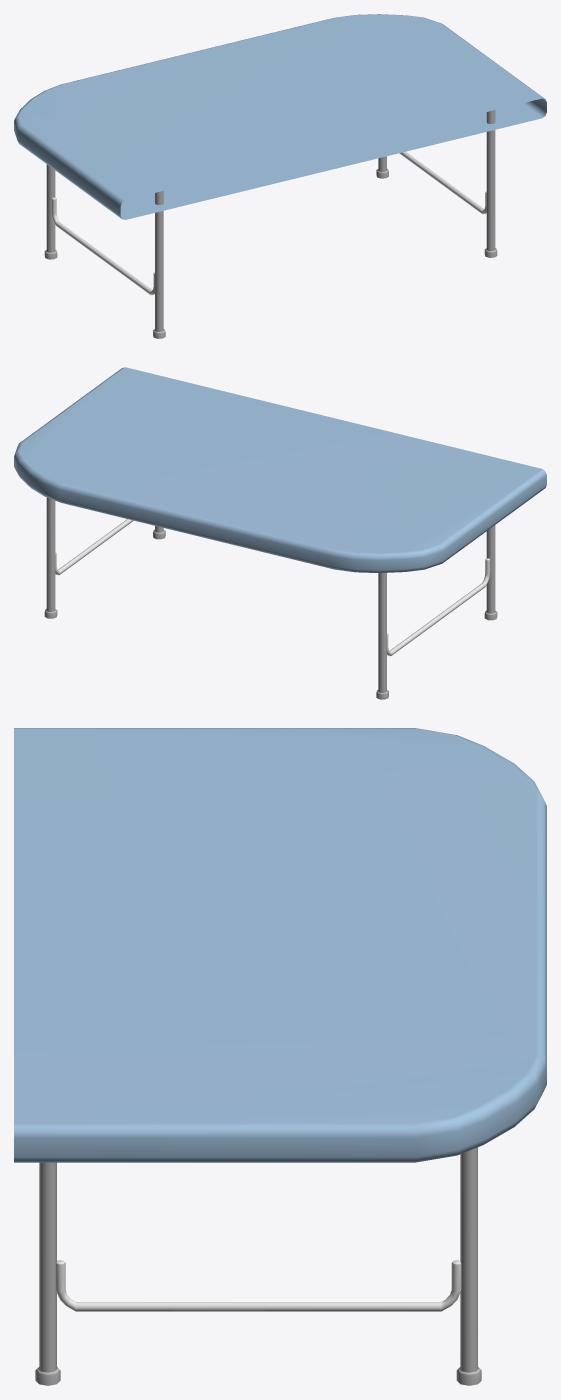
Rendered from Table2.fbx.
3 views of the same model, one above another, from view 1: azimuth 30°, elevation 25°; view 2: azimuth 150°, elevation 25°; view 3: azimuth 270°, elevation 25° (orthographic). The views are drawn at different scales.
Parts seen in each view (by area): view 1: Table2; view 2: Table2; view 3: Table2.
Part boxes in pixels (box(x1,y1,x2,y2)): Table2: box(14, 14, 546, 338); Table2: box(14, 367, 546, 699); Table2: box(14, 728, 546, 1385).
Size of the model in its own units: 4.74 by 1.63 by 2.64.
